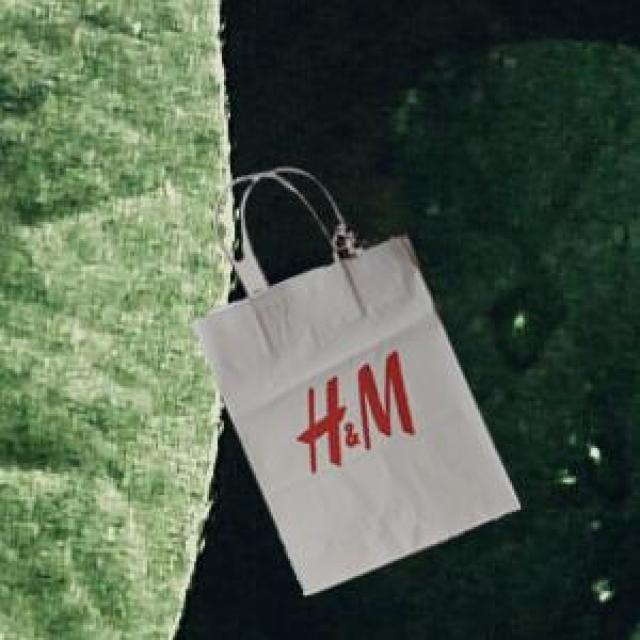paper: (190, 166, 516, 591)
